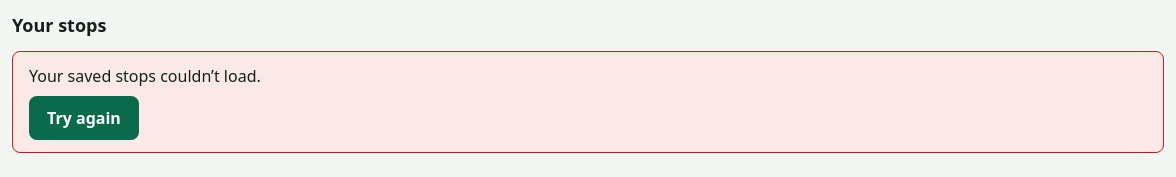
Scenario: FavouritesPanel › offers a retry when the list fails to load
Expected: the text "Your saved stops couldn’t load." is shown, x1=29 y1=65 x2=261 y2=87
Click the button "Try again".
click(84, 118)  # box x1=29 y1=96 x2=139 y2=140
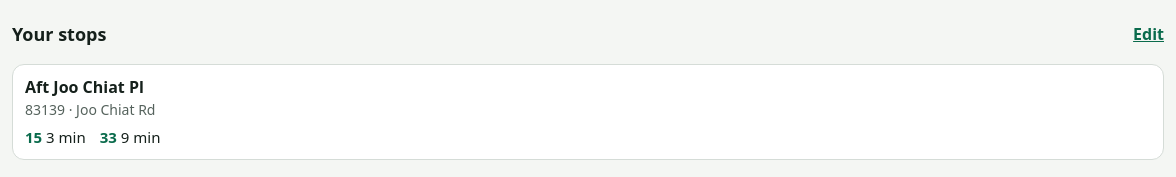
Result: the text "Aft Joo Chiat Pl" is shown at x1=25 y1=76 x2=144 y2=98
